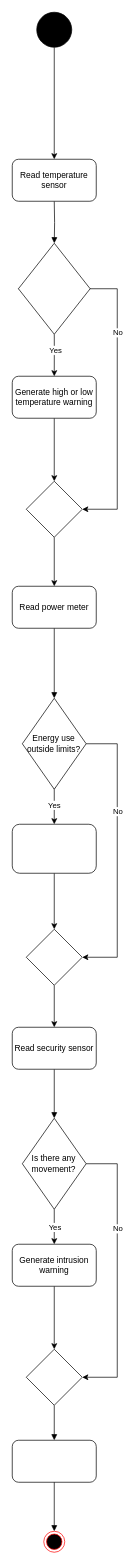
Image size: 135x1565. Some labels were removed from this diagram. The shapes that lost their labels are listed below. From the top down, each one's centre as x and y in pixels, then its label:
At (54,288): "Temperature outside user's limits?".
At (54,848): "Consumption warning".
At (54,1461): "Return alerts to user".
